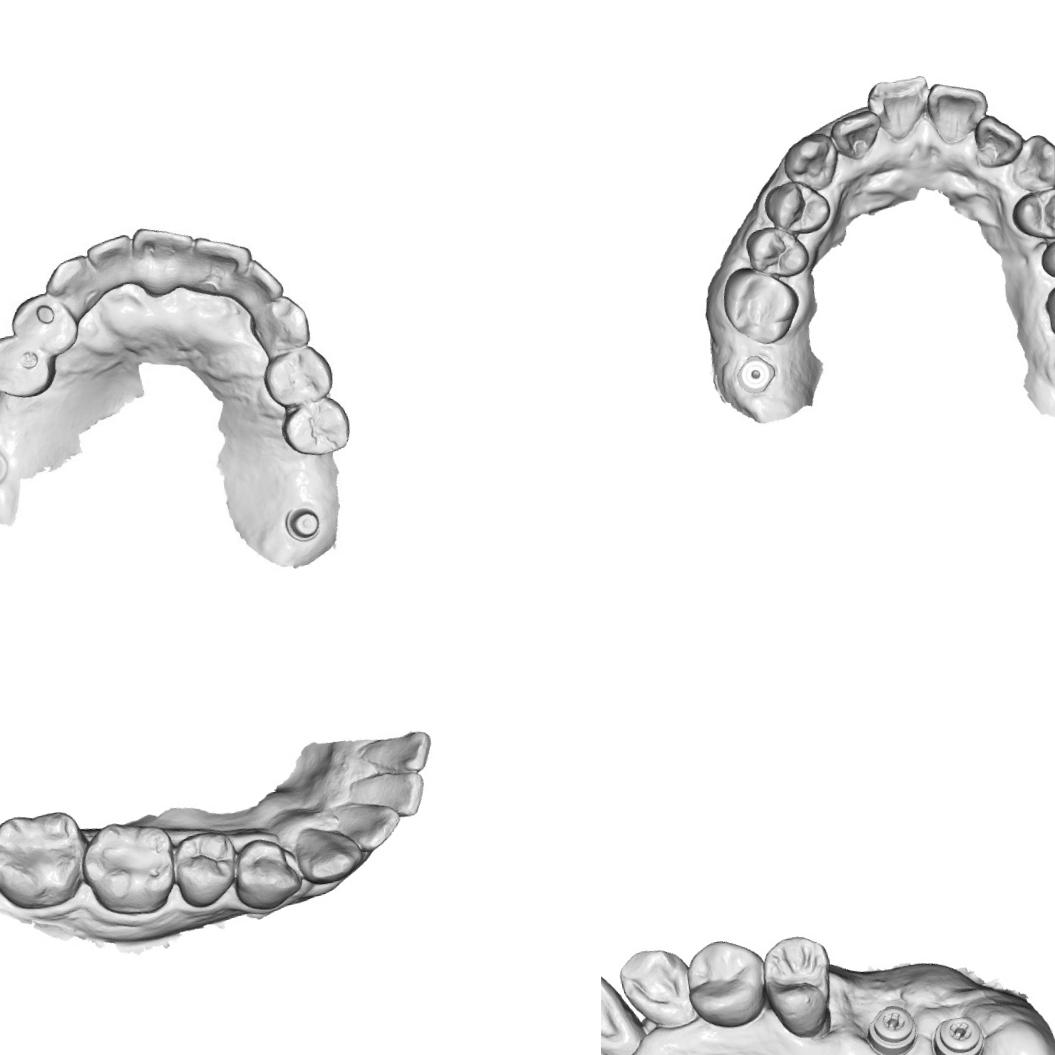abutment: (278, 498, 325, 548)
canine: (614, 943, 698, 1036), (289, 817, 367, 889), (245, 291, 310, 361), (779, 129, 843, 195), (41, 251, 101, 315), (1005, 130, 1055, 196)
implant: (732, 351, 779, 398)
implant_plus: (862, 1002, 921, 1055), (927, 1009, 990, 1055)
incisor: (864, 73, 936, 147), (923, 75, 994, 148), (356, 725, 435, 782), (132, 220, 198, 286), (360, 764, 430, 826), (337, 794, 406, 856), (601, 960, 638, 1055), (826, 108, 886, 164), (970, 110, 1026, 170), (193, 231, 250, 286), (88, 234, 138, 288), (238, 259, 287, 311)
molar: (76, 814, 183, 921), (0, 806, 92, 917), (718, 260, 805, 350)
premolar: (758, 930, 840, 1041), (680, 934, 772, 1032), (164, 824, 243, 912), (228, 832, 308, 913), (5, 288, 80, 362), (277, 392, 353, 462), (760, 176, 834, 240), (0, 327, 58, 407), (260, 346, 332, 410), (743, 222, 812, 282), (1007, 182, 1055, 245), (1036, 224, 1055, 282)
